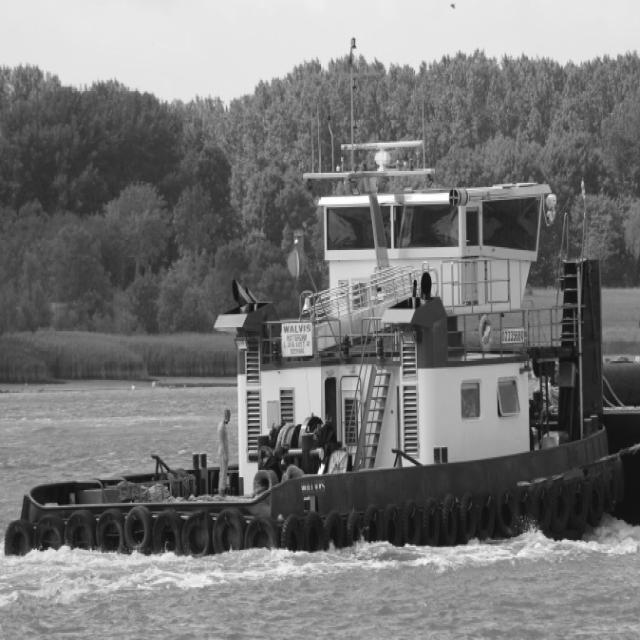tugboat: (1, 137, 625, 582)
